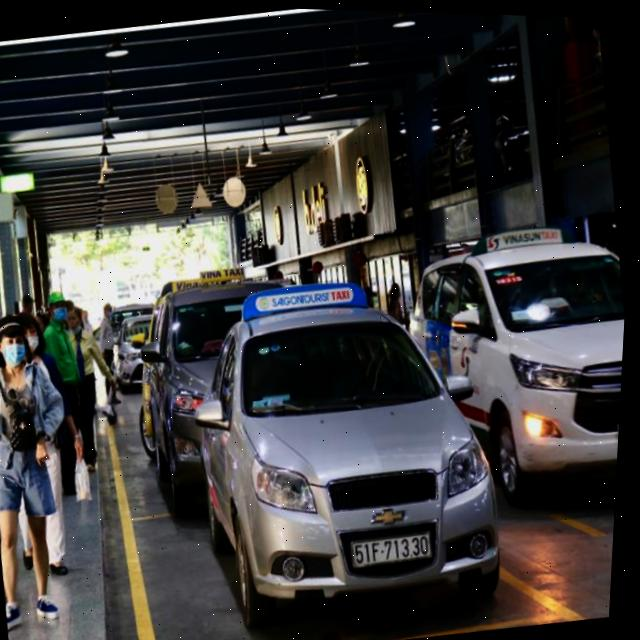car: (156, 261, 528, 640), (403, 223, 629, 526)
plate: (343, 523, 439, 576), (609, 416, 619, 449)
